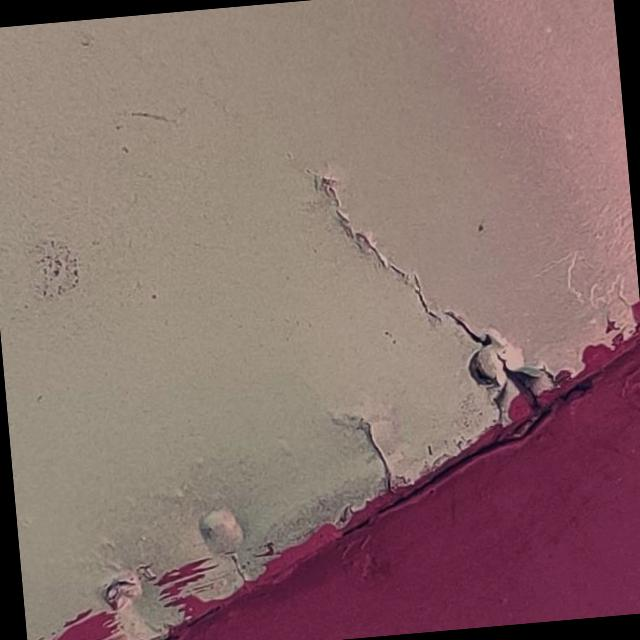crack: (300, 133, 582, 468), (333, 396, 417, 514)
